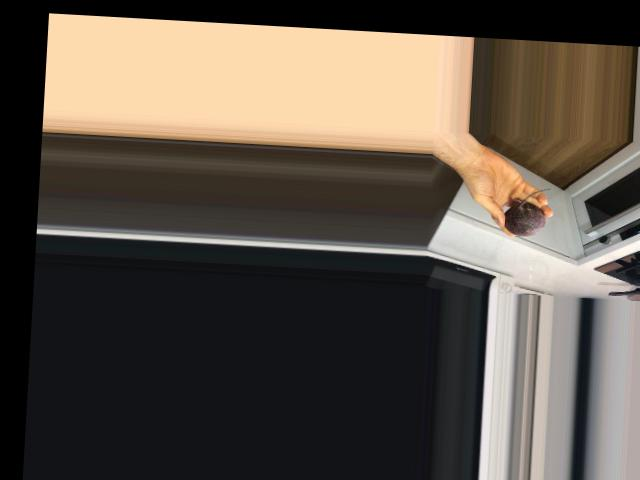beet: (503, 185, 551, 237)
